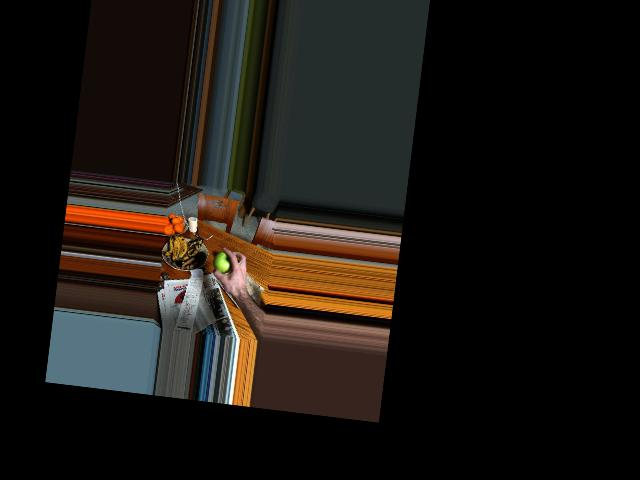apple: (212, 247, 236, 277)
